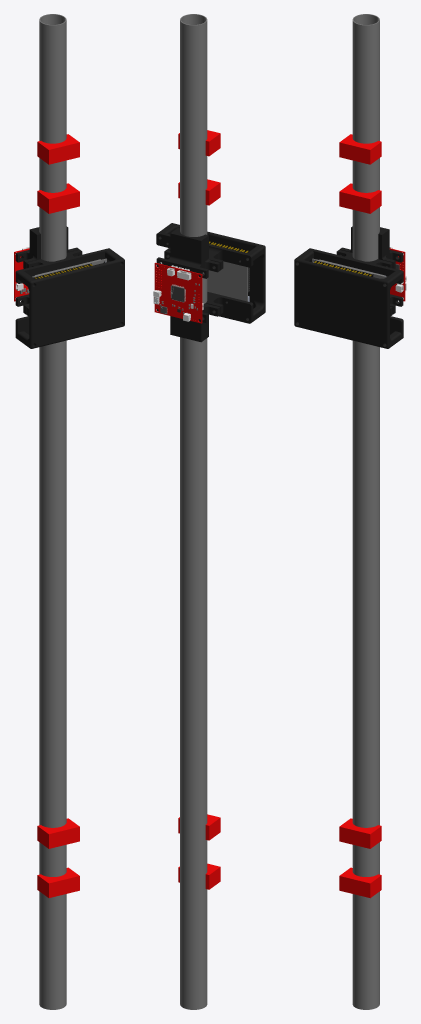
File: main_body.dae
3 views of the same model, side by side, from view 1: azimuth 30°, elevation 25°; view 2: azimuth 150°, elevation 25°; view 3: azimuth 330°, elevation 25° (orthographic).
Visible parts, largest first — view 1: node_16af5a62_3cf3_423c_abeb_8d49243500d3_mesh7, node_16af5a62_3cf3_423c_abeb_8d49243500d3_mesh13, node_16af5a62_3cf3_423c_abeb_8d49243500d3_mesh10; view 2: node_16af5a62_3cf3_423c_abeb_8d49243500d3_mesh7, node_16af5a62_3cf3_423c_abeb_8d49243500d3_mesh13, node_16af5a62_3cf3_423c_abeb_8d49243500d3_mesh10, node_16af5a62_3cf3_423c_abeb_8d49243500d3_mesh20, node_16af5a62_3cf3_423c_abeb_8d49243500d3_mesh0; view 3: node_16af5a62_3cf3_423c_abeb_8d49243500d3_mesh7, node_16af5a62_3cf3_423c_abeb_8d49243500d3_mesh13, node_16af5a62_3cf3_423c_abeb_8d49243500d3_mesh10.
Boxes of the visible parts, left/top/right/bottom form: node_16af5a62_3cf3_423c_abeb_8d49243500d3_mesh7: left=20, top=14, right=66, bottom=1009; node_16af5a62_3cf3_423c_abeb_8d49243500d3_mesh13: left=15, top=226, right=124, bottom=348; node_16af5a62_3cf3_423c_abeb_8d49243500d3_mesh10: left=14, top=134, right=79, bottom=897; node_16af5a62_3cf3_423c_abeb_8d49243500d3_mesh7: left=159, top=14, right=207, bottom=1009; node_16af5a62_3cf3_423c_abeb_8d49243500d3_mesh13: left=156, top=223, right=265, bottom=342; node_16af5a62_3cf3_423c_abeb_8d49243500d3_mesh10: left=154, top=130, right=220, bottom=889; node_16af5a62_3cf3_423c_abeb_8d49243500d3_mesh20: left=207, top=261, right=247, bottom=301; node_16af5a62_3cf3_423c_abeb_8d49243500d3_mesh0: left=153, top=265, right=203, bottom=321; node_16af5a62_3cf3_423c_abeb_8d49243500d3_mesh7: left=352, top=14, right=379, bottom=1009; node_16af5a62_3cf3_423c_abeb_8d49243500d3_mesh13: left=294, top=226, right=403, bottom=348; node_16af5a62_3cf3_423c_abeb_8d49243500d3_mesh10: left=339, top=134, right=405, bottom=898.
Size of the model in its own units: 101 by 79.31 by 1000.
